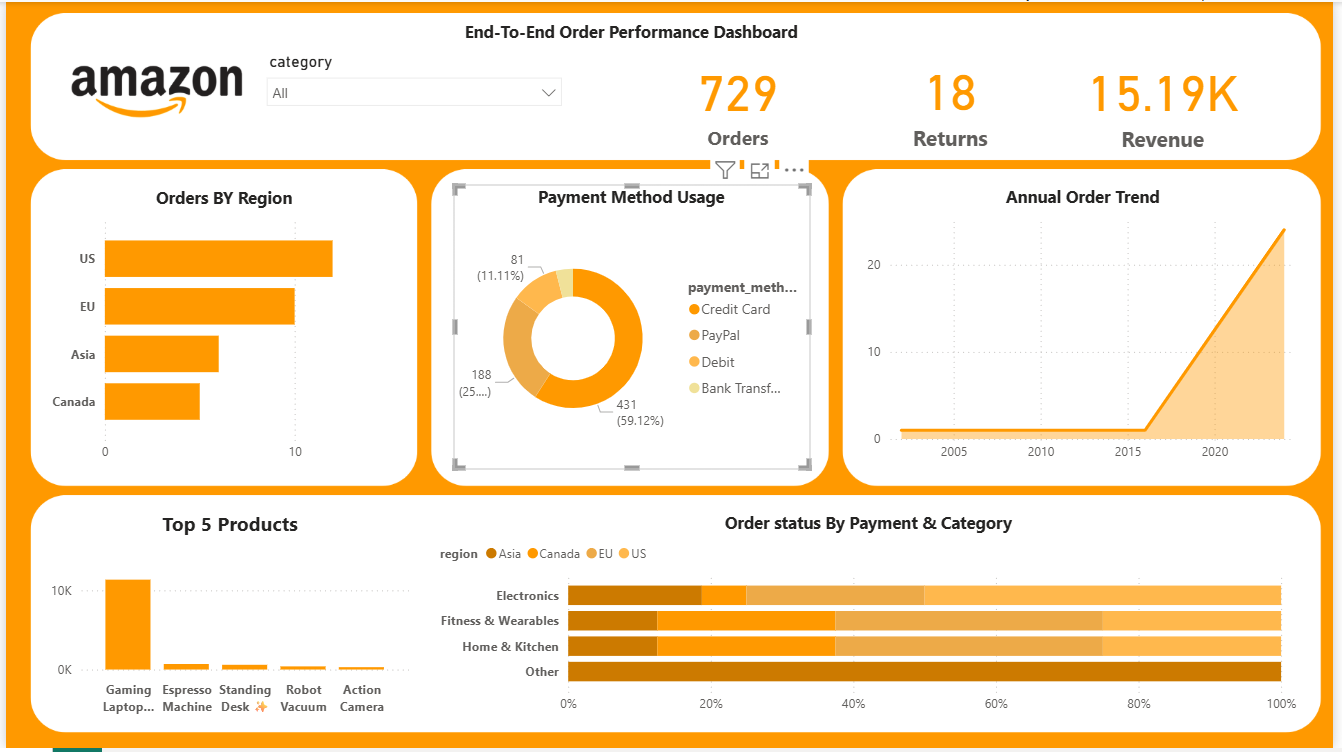

This screenshot's page, from the dashboard's own definition file:
{"tool":"powerbi","page":{"name":"Page 1","canvas":[1280,720],"ordinal":0},"visuals":[{"type":"card","fields":{"Values":["Sum(Studio Results 2025-08-17 1745.order_id)"]},"box":[631.2,40,151.2,111.2],"z":0},{"type":"card","fields":{"Values":["CountNonNull(Studio Results 2025-08-17 1745.return_reason)"]},"box":[811.2,43.8,201.2,103.8],"z":1000},{"type":"card","fields":{"Values":["Sum(Studio Results 2025-08-17 1745.unit_price)"]},"box":[1012.5,43.8,208.8,105],"z":2000},{"type":"slicer","fields":{"Values":["Studio Results 2025-08-17 1745.category"]},"box":[241.2,43.8,305,103.8],"z":3000},{"type":"barChart","title":"Orders BY Region","fields":{"Category":["Studio Results 2025-08-17 1745.region"],"Y":["CountNonNull(Studio Results 2025-08-17 1745.order_id)"]},"box":[38.8,177.5,343.8,275],"z":4000},{"type":"donutChart","title":"Payment Method Usage","fields":{"Category":["Studio Results 2025-08-17 1745.payment_method"],"Y":["Sum(Studio Results 2025-08-17 1745.order_id)"]},"box":[432.2,175.6,343.1,275.8],"z":5000},{"type":"lineChart","title":"Annual Order Trend","fields":{"Category":["Studio Results 2025-08-17 1745.sale_date.Variation.Date Hierarchy.Year","Studio Results 2025-08-17 1745.sale_date.Variation.Date Hierarchy.Month"],"Y":["CountNonNull(Studio Results 2025-08-17 1745.order_id)"]},"box":[826.1,175.6,425.4,275.8],"z":6000},{"type":"hundredPercentStackedBarChart","title":"Order status By Payment &  Category","fields":{"Category":["Studio Results 2025-08-17 1745.category","Studio Results 2025-08-17 1745.status","Studio Results 2025-08-17 1745.payment_method"],"Series":["Studio Results 2025-08-17 1745.region"],"Y":["CountNonNull(Studio Results 2025-08-17 1745.payment_method)"]},"box":[414.4,491.3,837.1,204.5],"z":7000},{"type":"textbox","box":[425,12.5,357.5,36.2],"z":8000},{"type":"columnChart","title":"Top 5 Products","fields":{"Category":["Studio Results 2025-08-17 1745.product_name"],"Y":["Sum(Studio Results 2025-08-17 1745.unit_price)"]},"box":[38.4,491.3,355.4,204.5],"z":9000}]}

Visuals, with their boxes in screenshot pixels (x1, y1, x2, y2), scaled from the page's 1280x720 canvas onto the 1342x752 screenshot:
card - Sum(Studio Results 2025-08-17 1745.order_id): box=[662, 42, 820, 158]
card - CountNonNull(Studio Results 2025-08-17 1745.return_reason): box=[850, 46, 1061, 154]
card - Sum(Studio Results 2025-08-17 1745.unit_price): box=[1062, 46, 1280, 155]
slicer - Studio Results 2025-08-17 1745.category: box=[253, 46, 573, 154]
"Orders BY Region" barChart: box=[41, 185, 401, 473]
"Payment Method Usage" donutChart: box=[453, 183, 813, 471]
"Annual Order Trend" lineChart: box=[866, 183, 1312, 471]
"Order status By Payment &  Category" hundredPercentStackedBarChart: box=[434, 513, 1312, 727]
textbox: box=[446, 13, 820, 51]
"Top 5 Products" columnChart: box=[40, 513, 413, 727]
